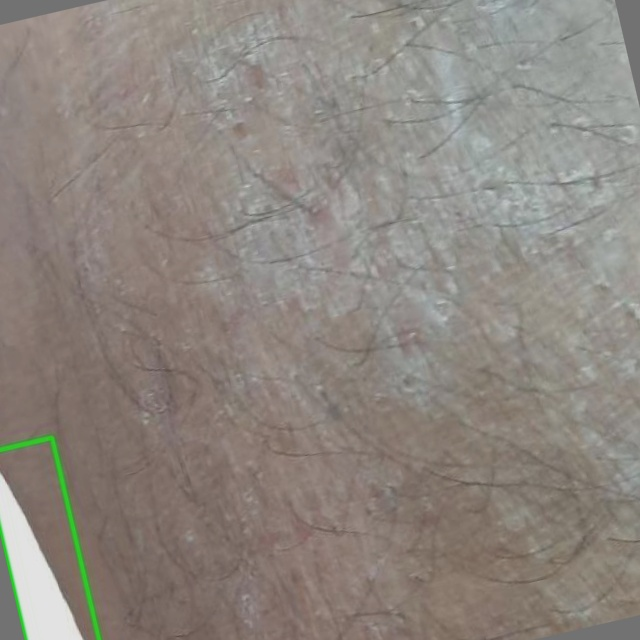Contact Dermatitis: (0, 437, 98, 639)
